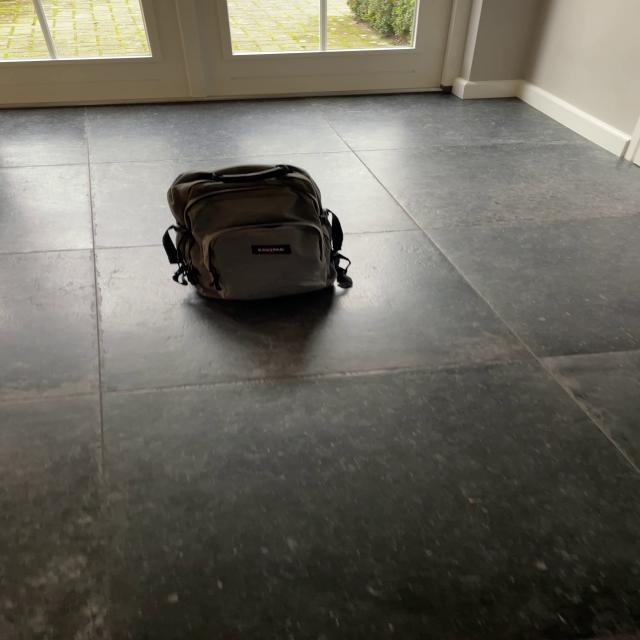backpack: (154, 158, 352, 306)
